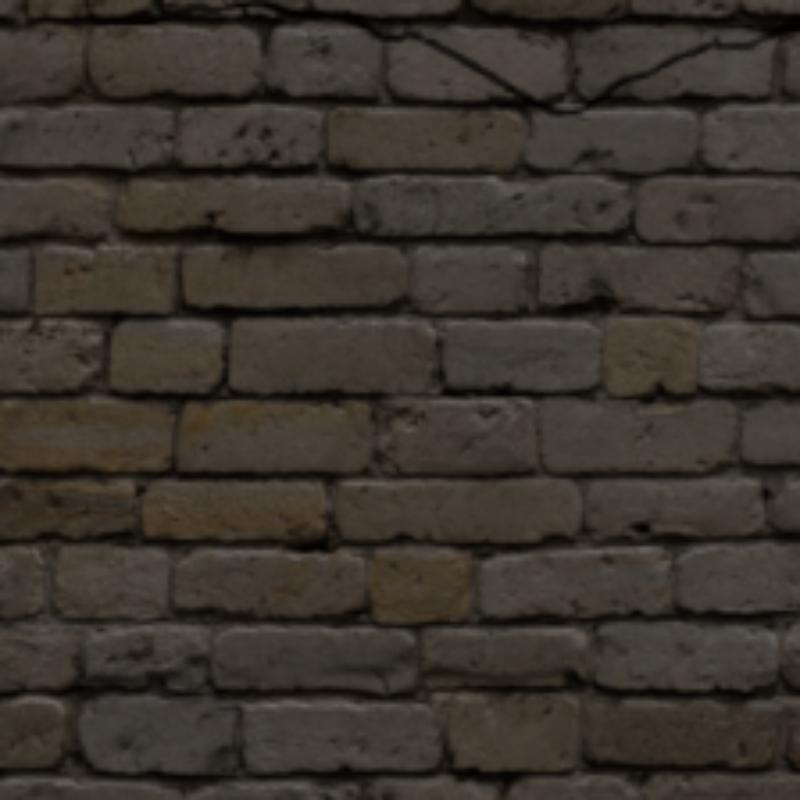pothole: (236, 0, 554, 111), (579, 21, 796, 111), (86, 0, 225, 21)
